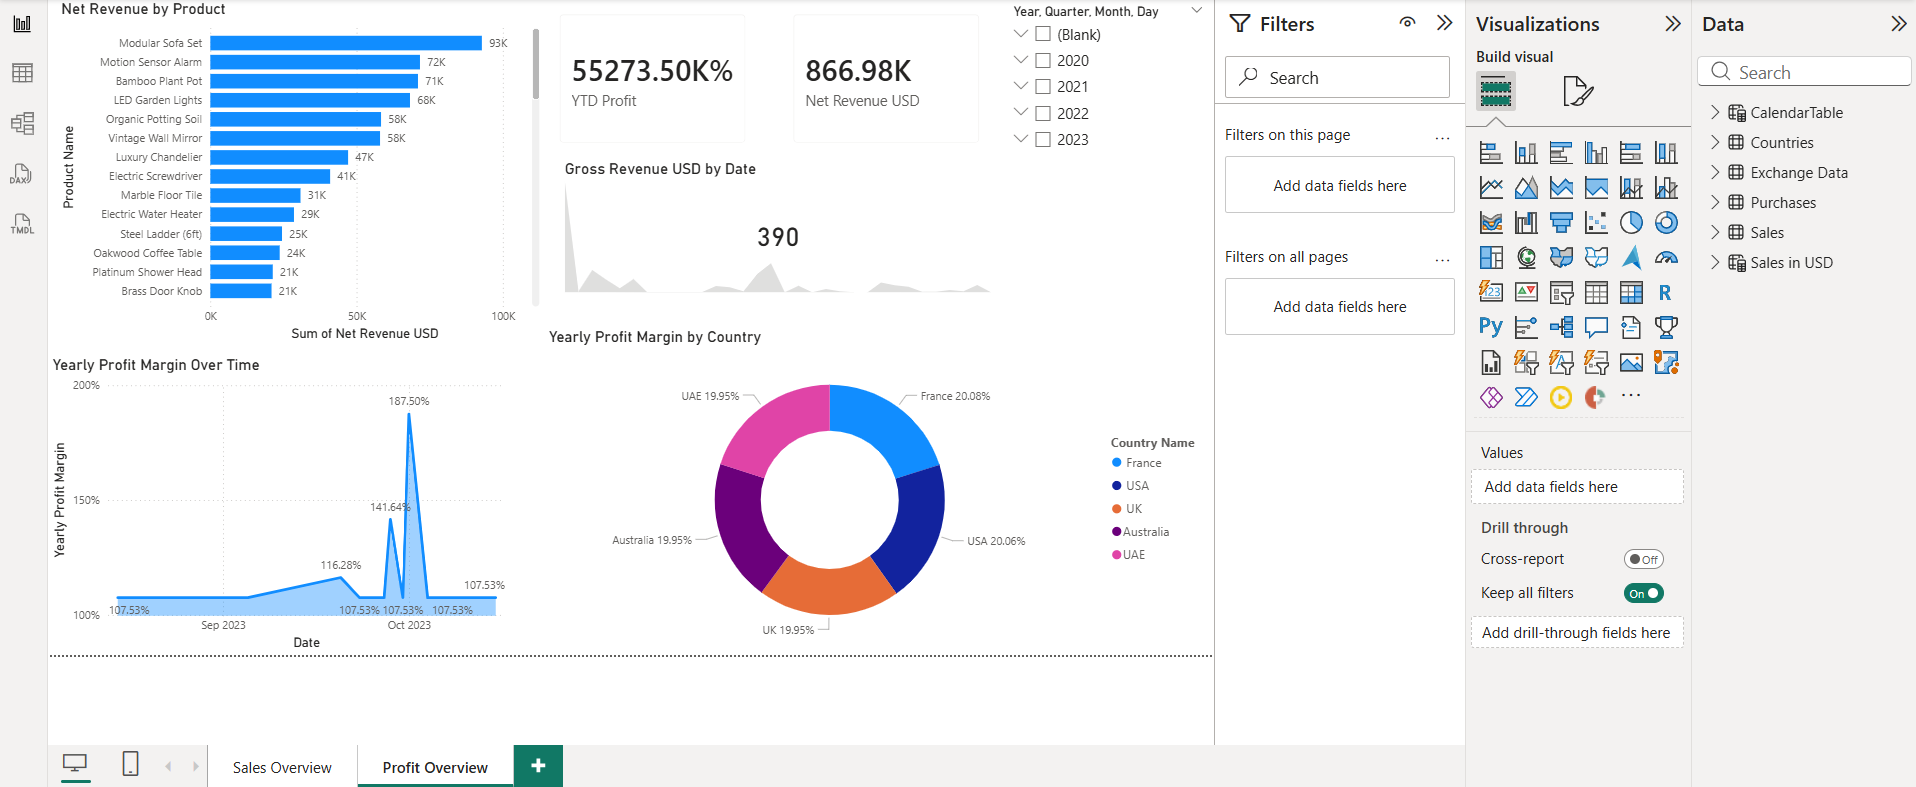

What the dashboard file says about the page in this screenshot:
{"tool":"powerbi","page":{"name":"Profit Overview","canvas":[1280,720],"ordinal":1},"visuals":[{"type":"clusteredBarChart","title":"Net Revenue by Product","fields":{"Category":["Sales in USD.Product Name"],"Y":["Sum(Sales in USD.Net Revenue USD)"]},"box":[10,0,535,380.5],"z":0},{"type":"donutChart","title":"Yearly Profit Margin by Country","fields":{"Category":["Sales in USD.Country Name"],"Y":["Sales in USD.Yearly Profit Margin"]},"box":[545,360.5,735.3,359.1],"z":1000},{"type":"areaChart","title":"Yearly Profit Margin Over Time","fields":{"Y":["Sales in USD.Yearly Profit Margin"],"Category":["CalendarTable.Date"]},"box":[0,390.5,520.7,329],"z":2000},{"type":"cardVisual","fields":{"Data":["Sales in USD.YTD Profit"]},"box":[545,0,238.9,176],"z":3000},{"type":"cardVisual","fields":{"Data":["Sum(Sales in USD.Net Revenue USD)"]},"box":[801.1,0,238.9,176],"z":4000},{"type":"kpi","fields":{"Indicator":["Sum(Sales in USD.Gross Revenue USD)"],"TrendLine":["CalendarTable.Date"]},"box":[562.2,176,477.8,151.6],"z":5000},{"type":"slicer","fields":{"Values":["CalendarTable.Date.Variation.Date Hierarchy.Year","CalendarTable.Date.Variation.Date Hierarchy.Quarter","CalendarTable.Date.Variation.Date Hierarchy.Month","CalendarTable.Date.Variation.Date Hierarchy.Day"]},"box":[1047.1,0,233.2,327.6],"z":6000}]}

Visuals, with their boxes on the page's 1280x720 design canvas (x1, y1, x2, y2). These are canvas units, not pixel positions in the 1916x787 screenshot, which may show the page scaled, cropped or inside an application window:
"Net Revenue by Product" clusteredBarChart: [left=10, top=0, right=545, bottom=380]
"Yearly Profit Margin by Country" donutChart: [left=545, top=360, right=1280, bottom=720]
"Yearly Profit Margin Over Time" areaChart: [left=0, top=390, right=521, bottom=720]
cardVisual - Sales in USD.YTD Profit: [left=545, top=0, right=784, bottom=176]
cardVisual - Sum(Sales in USD.Net Revenue USD): [left=801, top=0, right=1040, bottom=176]
kpi - Sum(Sales in USD.Gross Revenue USD) x CalendarTable.Date: [left=562, top=176, right=1040, bottom=328]
slicer - CalendarTable.Date.Variation.Date Hierarchy.Year x CalendarTable.Date.Variation.Date Hierarchy.Quarter: [left=1047, top=0, right=1280, bottom=328]
